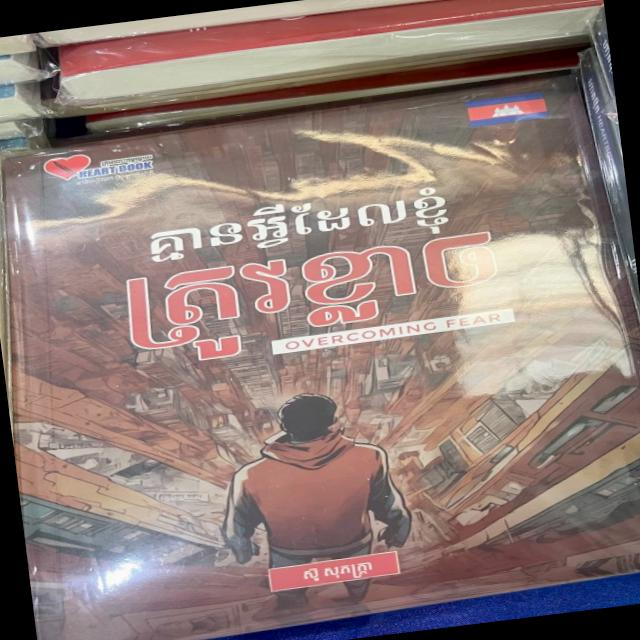1: (289, 549, 391, 589)
Yolov11kh: (116, 217, 520, 374), (140, 179, 459, 266)
